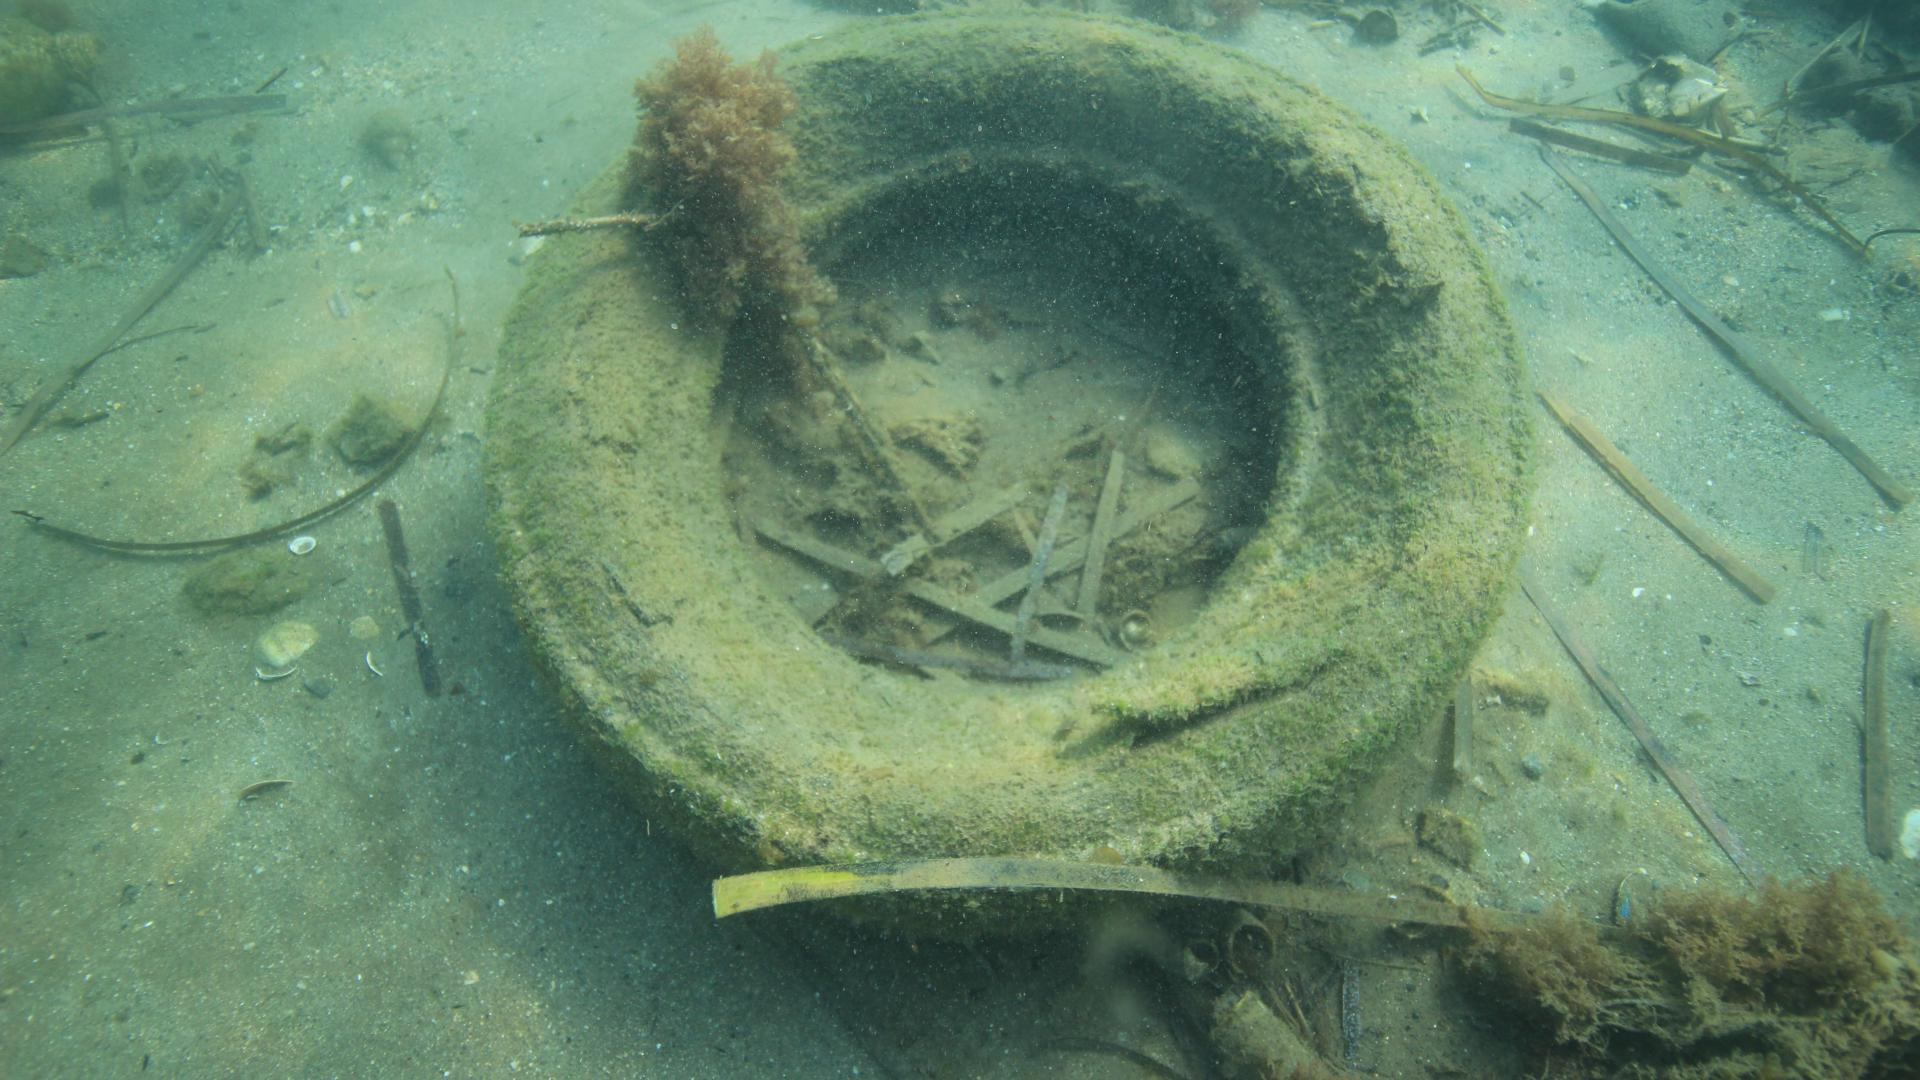tire: (485, 3, 1526, 942)
